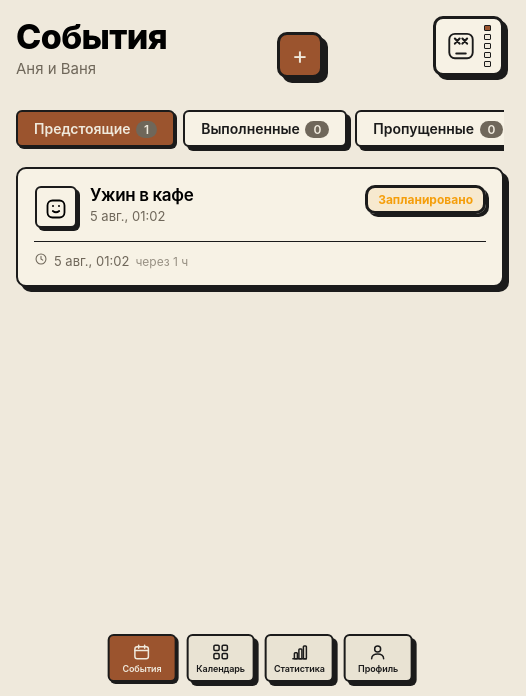
it: App › navigates to profile tab
Check: the heading "Ужин в кафе" is shown, box [90, 185, 193, 205]
Click the button "Профиль". click: x=378, y=658
box: [344, 634, 412, 682]
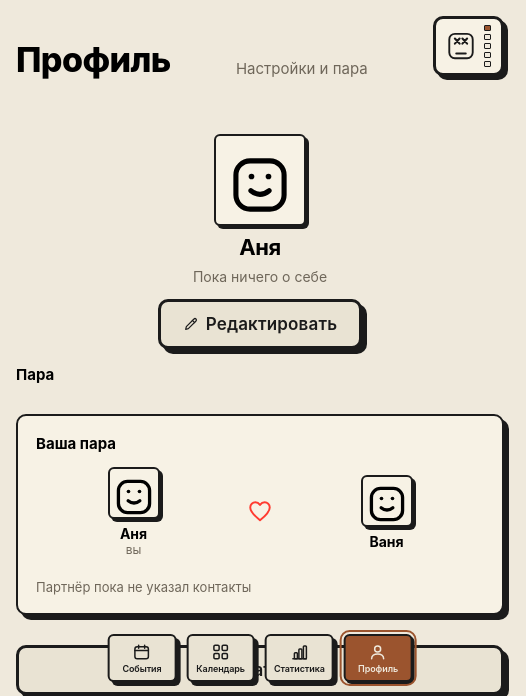
Check: the heading "Аня" is shown, box [239, 234, 281, 260]
